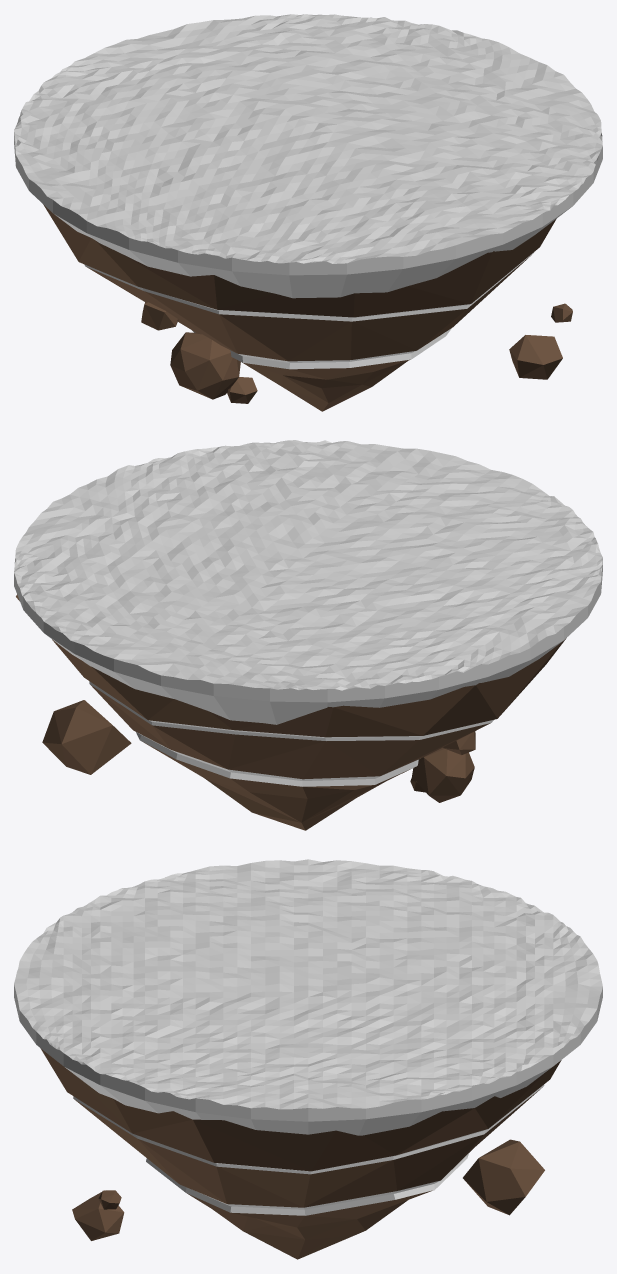
Rendered from water-circle.fbx.
3 views of the same model, one above another, from view 1: azimuth 30°, elevation 25°; view 2: azimuth 150°, elevation 25°; view 3: azimuth 270°, elevation 25° (orthographic).
Visible parts, largest first — view 1: water-circle; view 2: water-circle; view 3: water-circle.
Part boxes in pixels (x1,y1,x2,y2): water-circle: (14,14,602,411); water-circle: (14,440,602,830); water-circle: (14,859,602,1259).
Bounding box in the file's own units: 70.15 × 70.15 × 35.82.
